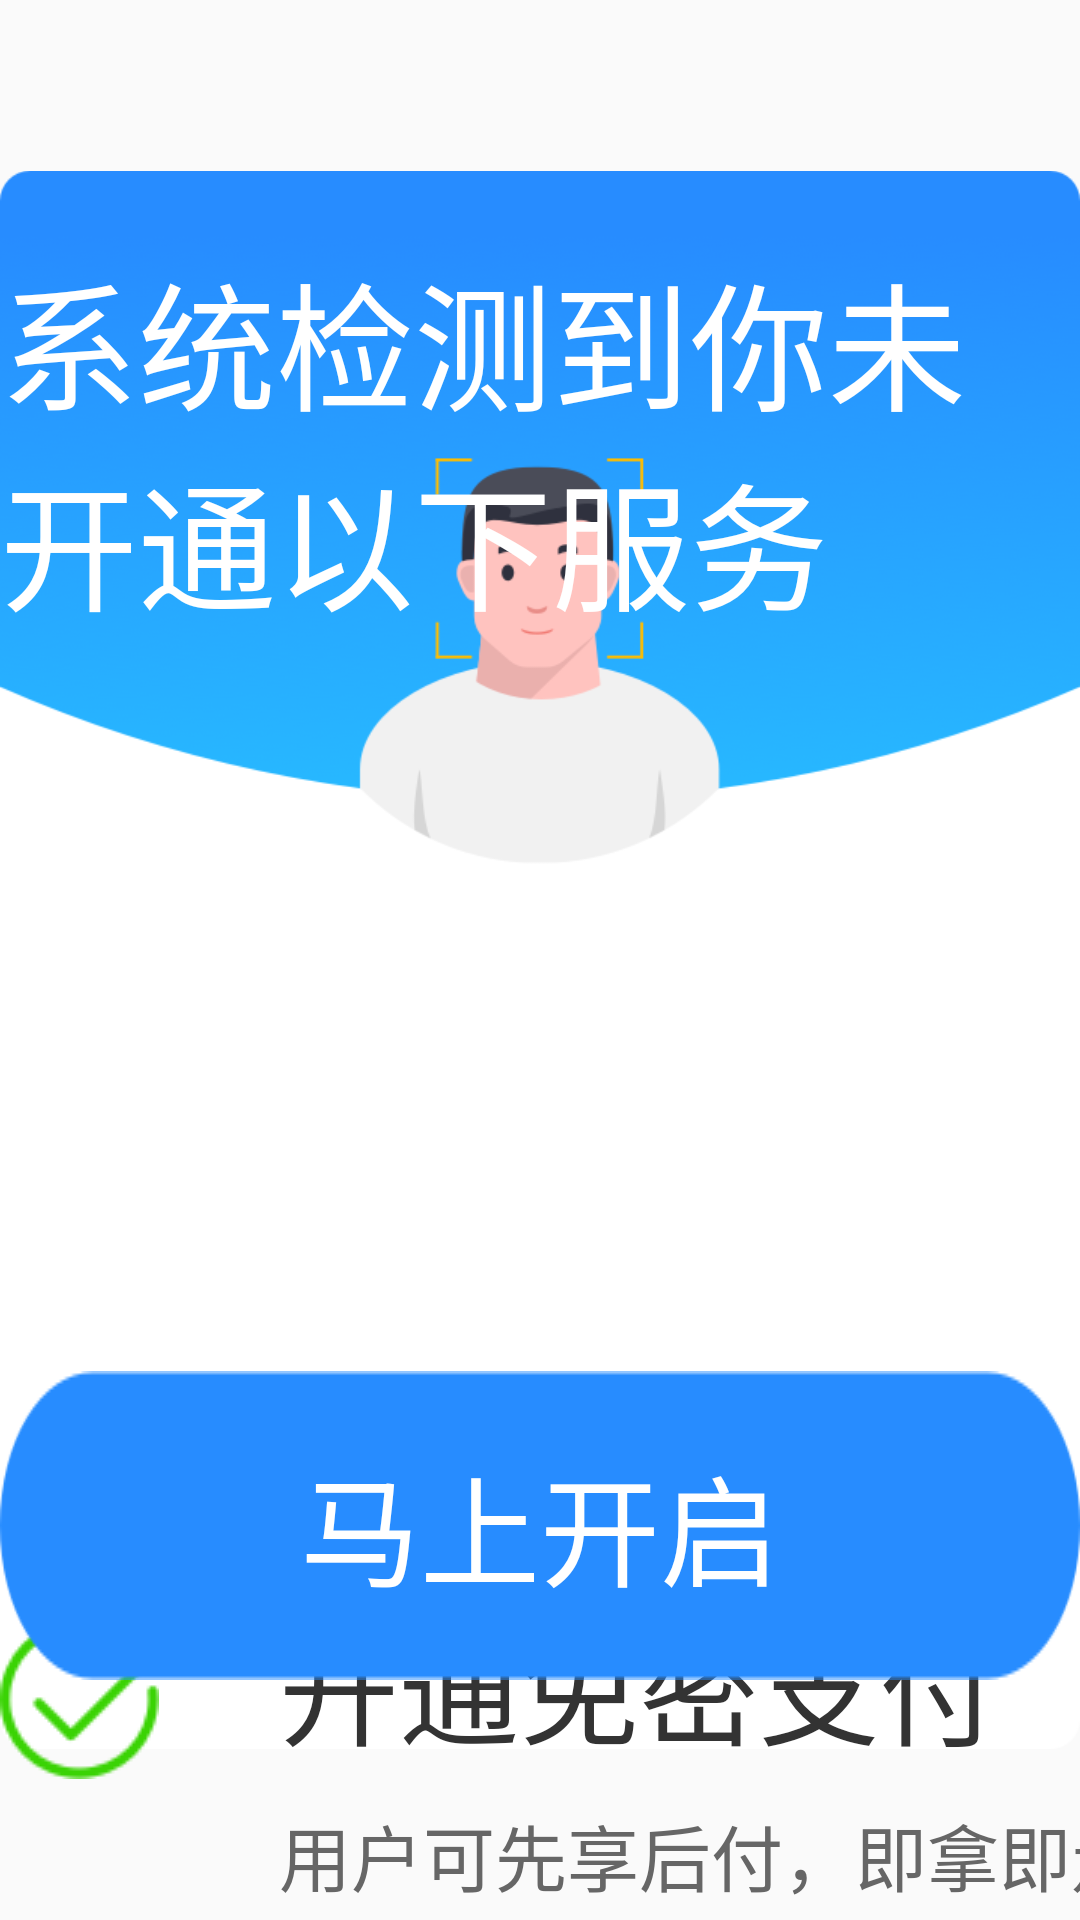

Where to tap for icons on this 1080 × 1920 app screen, as point (x, y):
tick: point (79, 1699)
